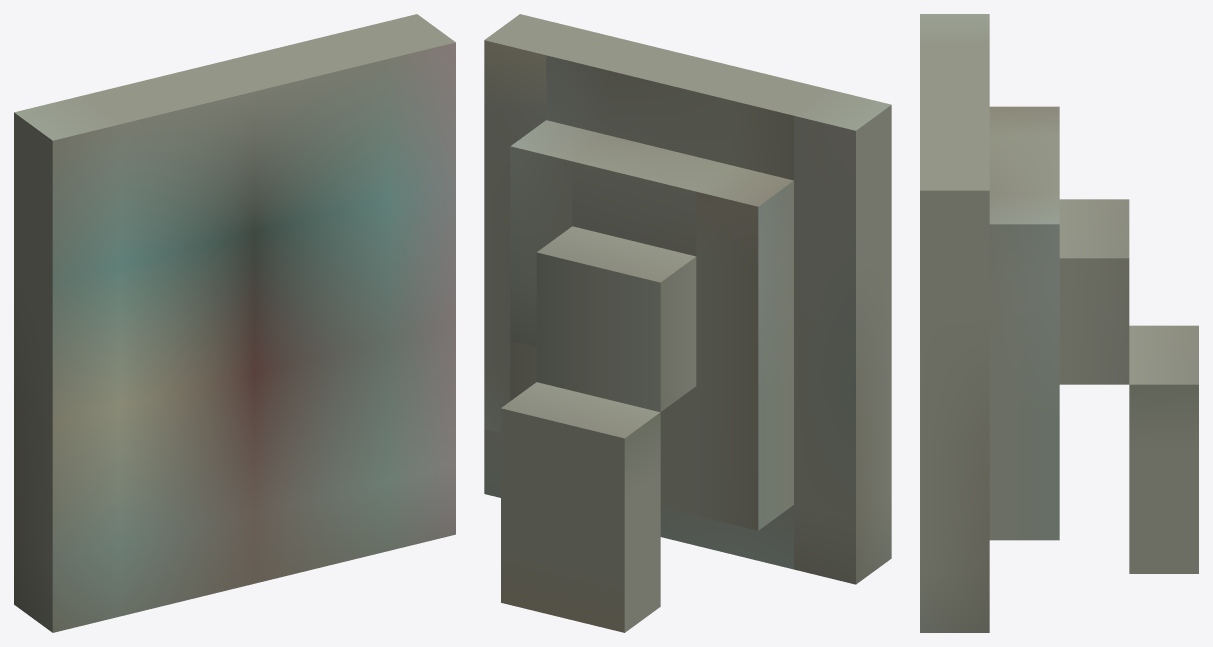
File: PaintingFramedSmall_C_01.obj
3 views of the same model, side by side, from view 1: azimuth 30°, elevation 25°; view 2: azimuth 150°, elevation 25°; view 3: azimuth 270°, elevation 25° (orthographic). The views are drawn at different scales.
Parts seen in each view (by area): view 1: PaintingFramedSmall_C_01; view 2: PaintingFramedSmall_C_01; view 3: PaintingFramedSmall_C_01.
Boxes of the visible parts, left/top/right/bottom form: PaintingFramedSmall_C_01: left=14, top=14, right=455, bottom=632; PaintingFramedSmall_C_01: left=484, top=14, right=891, bottom=632; PaintingFramedSmall_C_01: left=920, top=14, right=1198, bottom=632.
Size of the model in its own units: 0.3 by 0.35 by 0.2.
